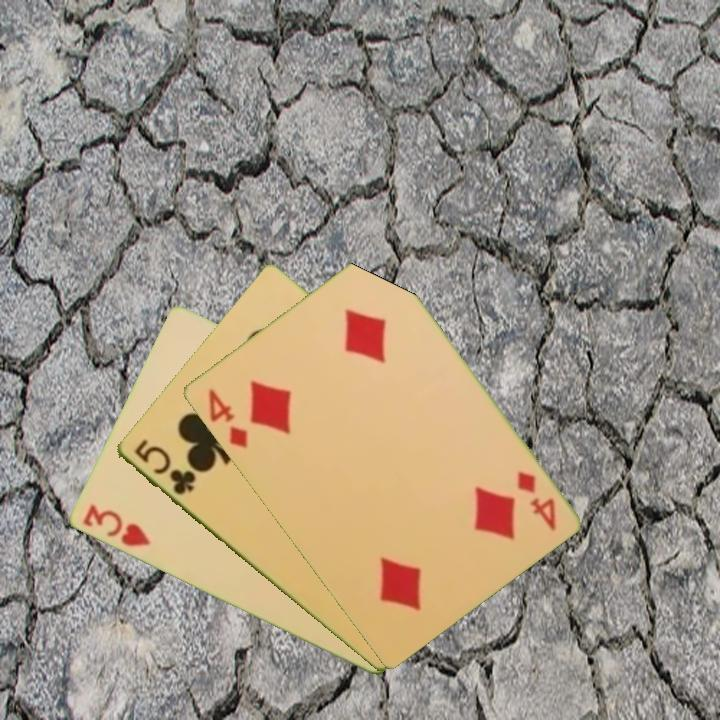3h: (78, 501, 152, 550)
4d: (204, 384, 250, 452), (513, 467, 559, 534)
5c: (130, 435, 199, 498)
